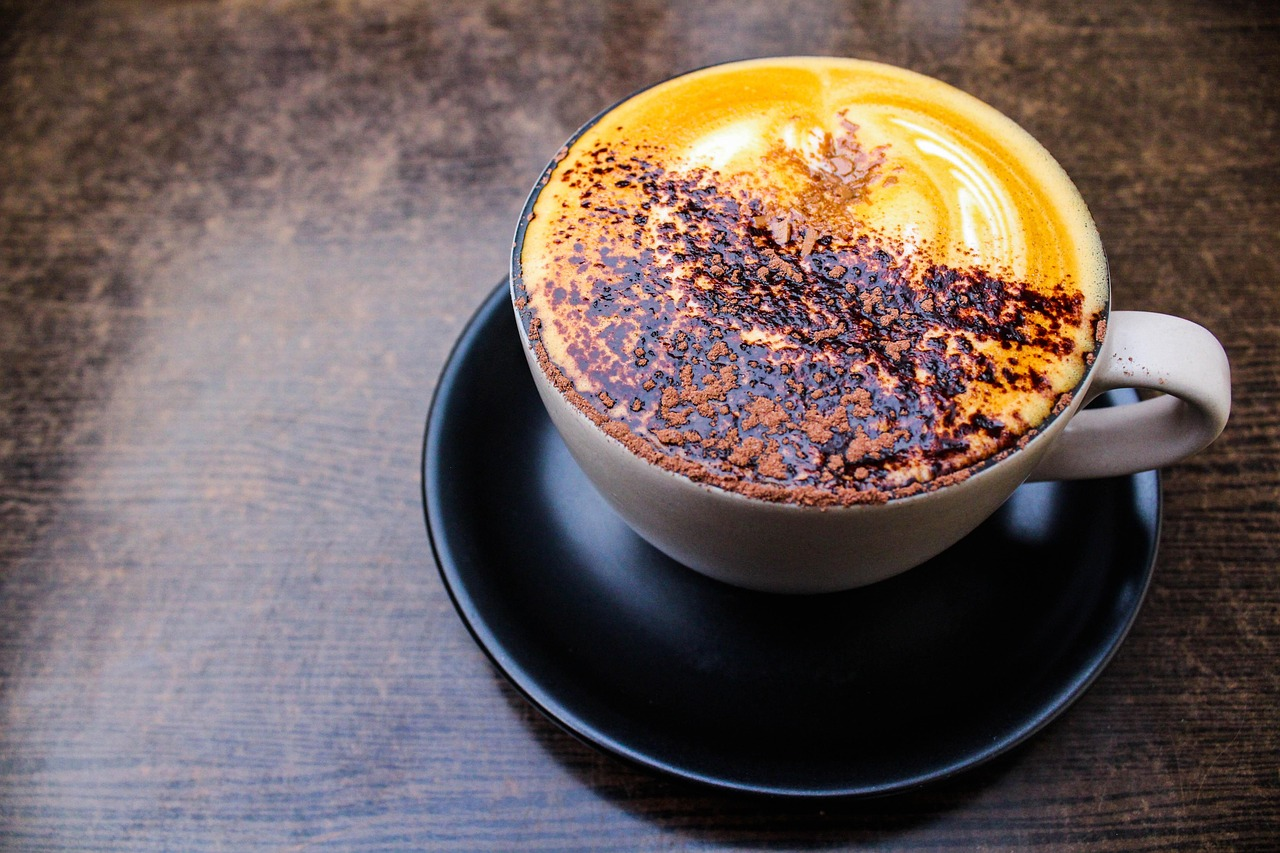mug: (476, 53, 1228, 618)
